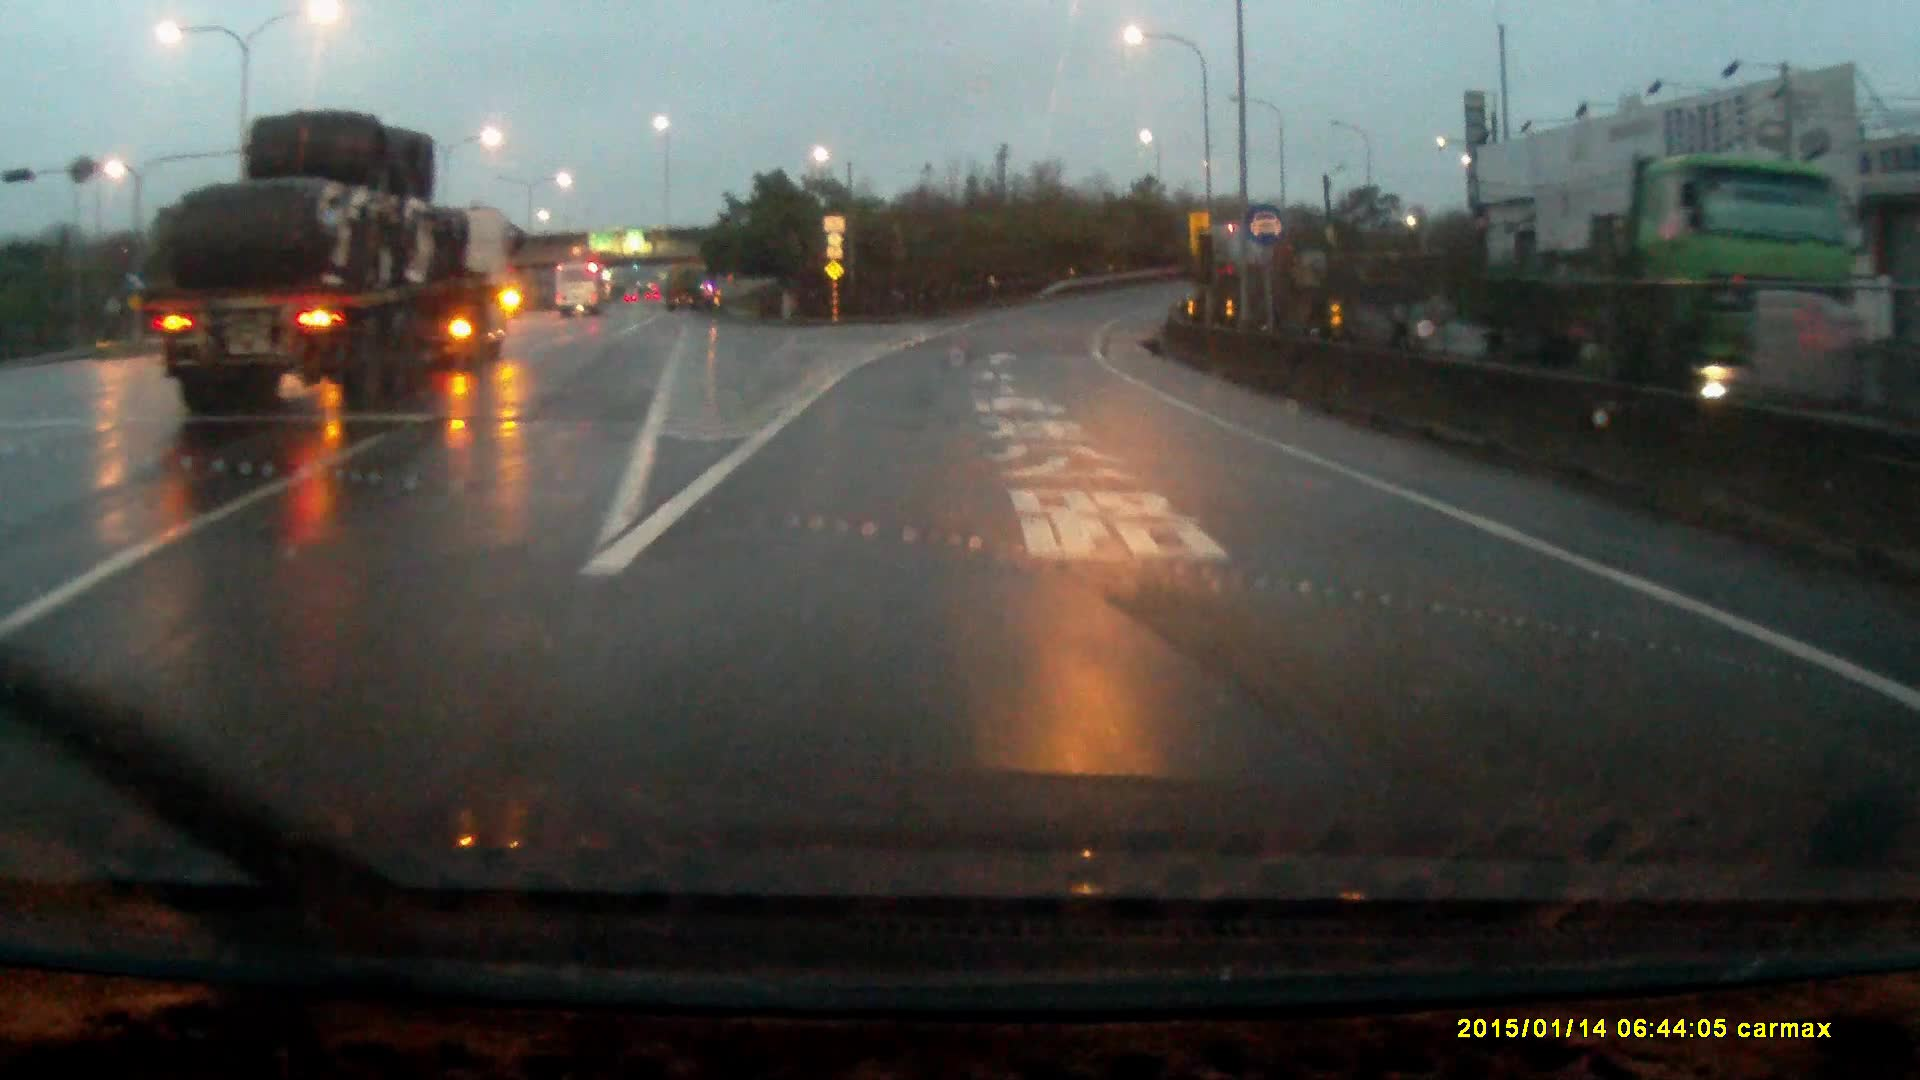vehicle: (135, 111, 525, 406), (554, 261, 607, 320)
